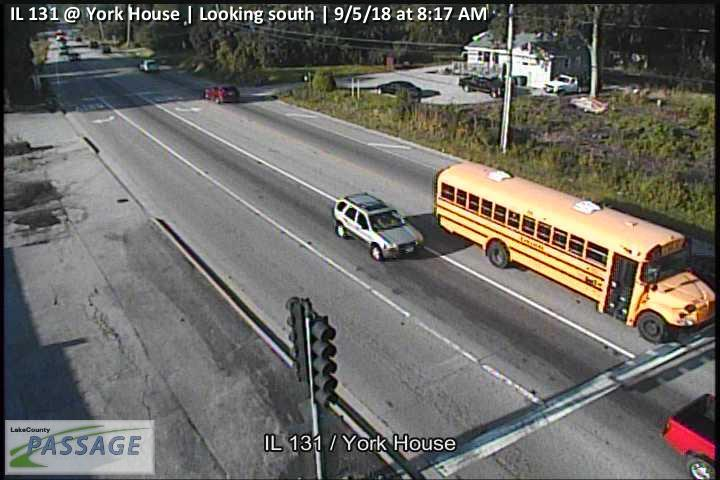Bus: (433, 160, 716, 343)
SUV: (331, 190, 424, 261)
Sedan: (459, 75, 504, 97), (374, 80, 422, 98), (203, 83, 239, 104)
Truck: (543, 69, 601, 94)
